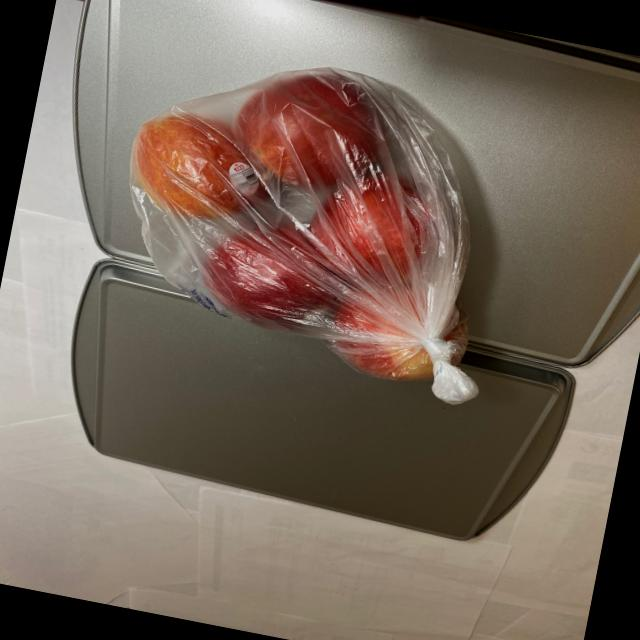apple: (89, 40, 513, 393)
